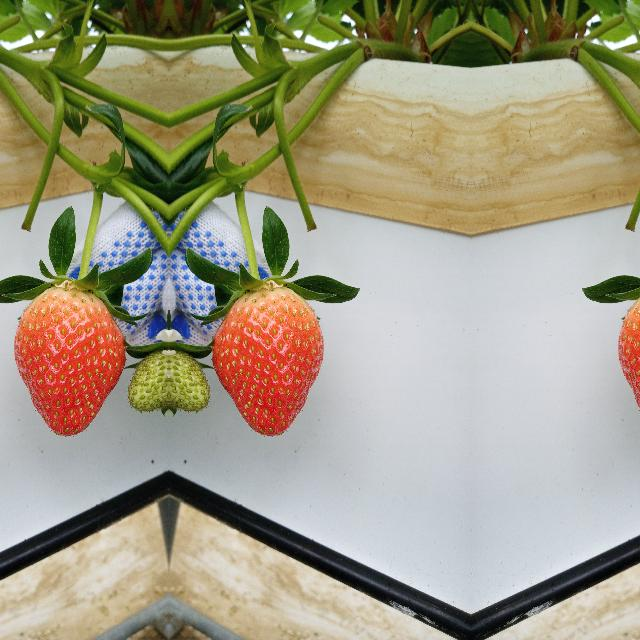Health_100: (209, 286, 323, 438), (13, 286, 127, 438)
